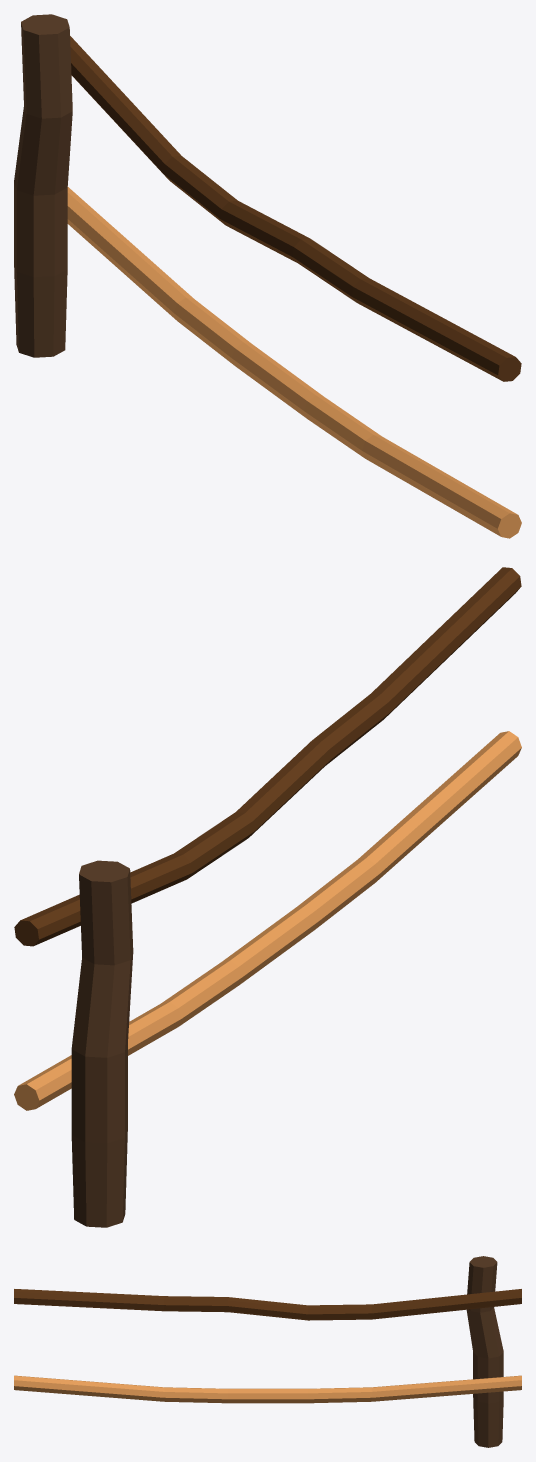
The model's file is Fence_7.fbx.
The picture shows the model from 3 angles, top to bottom: view 1: azimuth 30°, elevation 25°; view 2: azimuth 150°, elevation 25°; view 3: azimuth 270°, elevation 25°; orthographic projection. The views are drawn at different scales.
Parts seen in each view (by area): view 1: fence_6; view 2: fence_6; view 3: fence_6.
Part boxes in pixels (box(x1,y1,x2,y2)): fence_6: box(14, 14, 521, 538); fence_6: box(14, 567, 521, 1227); fence_6: box(14, 1256, 521, 1447).
Bounding box in the file's own units: 44.67 × 184 × 471.
